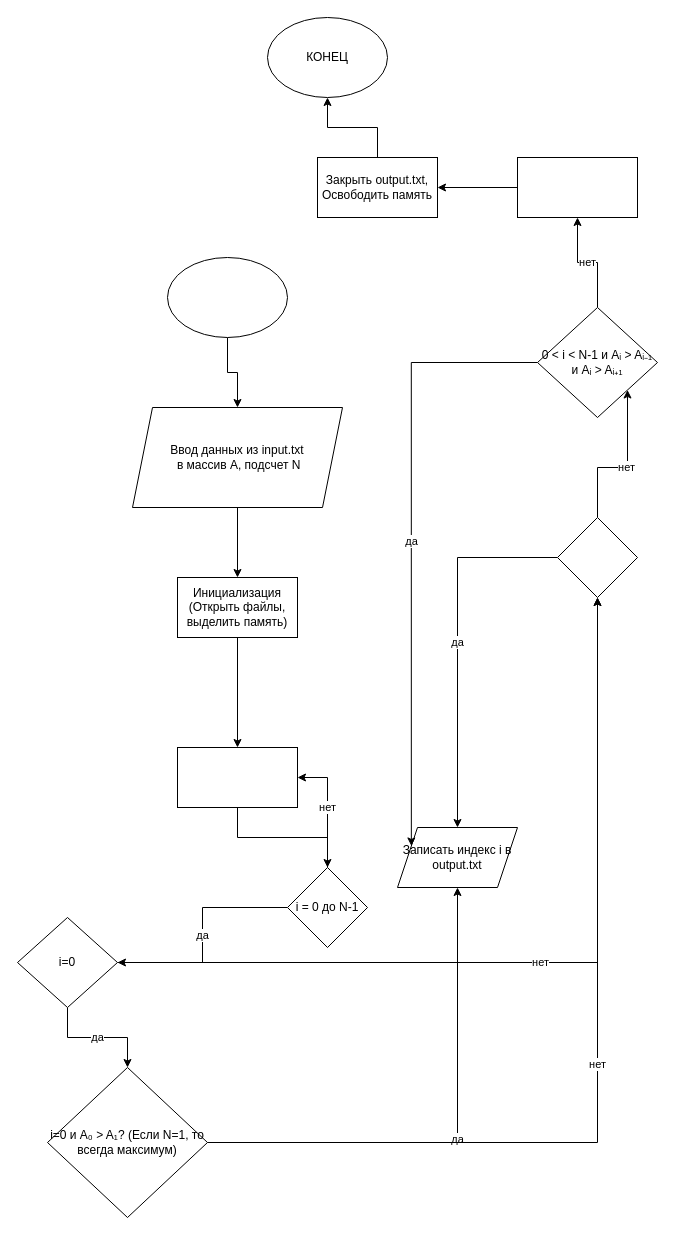
Some shapes in this 675 by 1235 pixel diagram are drawn without their labels. The shapes that lost their labels are listed below. From the top down, each one's centre as x and y in pixels, then its label:
the point at 577,187: i = i + 1 (Переход к следующей итерации цикла)
the point at 227,297: НАЧАЛО
the point at 597,557: i=N-1 и A_(N-1) > A_(N-2)
the point at 237,777: Закрыть input.txt
